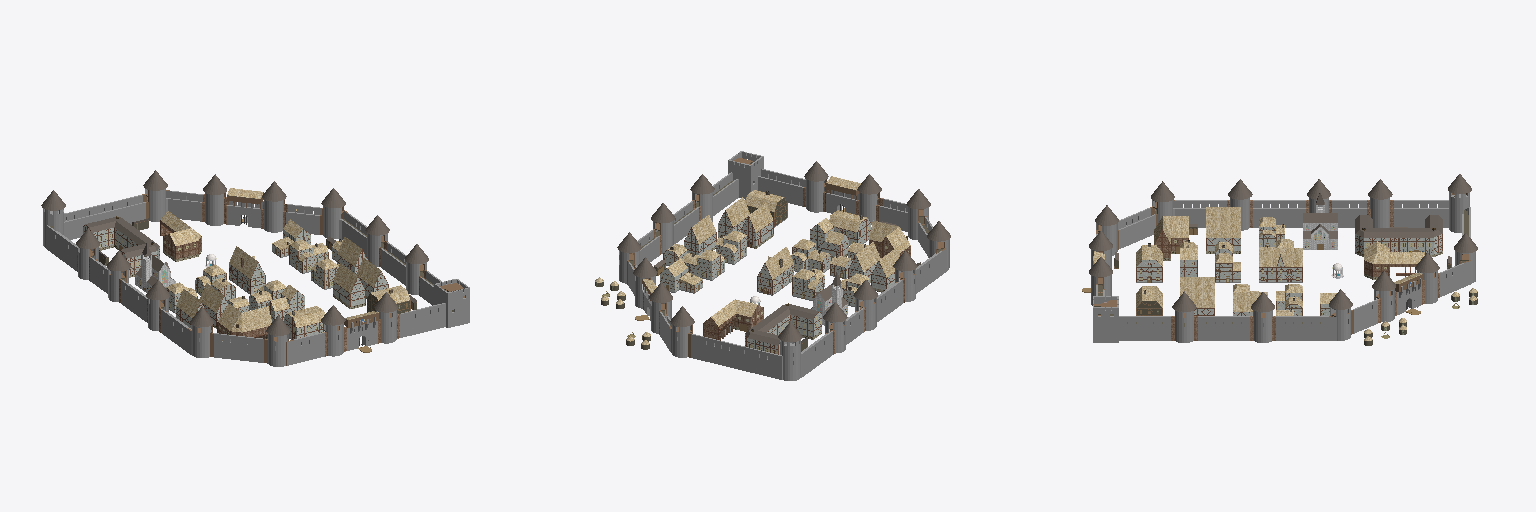
The picture shows the model from 3 angles: view 1: azimuth 30°, elevation 25°; view 2: azimuth 150°, elevation 25°; view 3: azimuth 270°, elevation 25°; orthographic projection.
Visible parts, largest first — view 1: Mesh135 Stables1 Model, Mesh49 Component_1_1 Barracks1 Model, Mesh34 Castle_Watchtower_1_1 Model, Mesh77 Castle_Wall_1_2 Model, Mesh3 Castle_Gate1 AutoSave_Castle_Gate1 Group1 Model, Mesh76 Castle_Tower_2_1 Model, Mesh30 Castle_Wall_1_1 Model, Mesh124 Group28 Group26 Manor1 Model, Mesh78 Castle_Tower_2_2 Model, Mesh35 Castle_Gate2 AutoSave_Castle_Gate2 Model, Mesh71 Component_4_1 Chapel1 Model, Mesh107 Castle_Tower_2_3 Model (+23 smaller); view 2: Mesh135 Stables1 Model, Mesh123 Group27 Group26 Manor1 Model, Mesh118 Castle_Wall_1_8 Model, Mesh30 Castle_Wall_1_1 Model, Mesh34 Castle_Watchtower_1_1 Model, Mesh47 Castle_Corner_Tower_1_1 Model, Mesh49 Component_1_1 Barracks1 Model, Mesh35 Castle_Gate2 AutoSave_Castle_Gate2 Model, Mesh108 Castle_Tower_2_4 Model, Mesh68 Loft1 Model, Mesh125 Store2 Model, Mesh136 Smithy1 Model (+17 smaller); view 3: Mesh71 Component_4_1 Chapel1 Model, Mesh124 Group28 Group26 Manor1 Model, Mesh95 Castle_Wall_1_7 Model, Mesh93 Castle_Wall_1_5 Model, Mesh94 Castle_Wall_1_6 Model, Mesh135 Stables1 Model, Mesh122 Castle_Wall_1_1_1 Model, Mesh34 Castle_Watchtower_1_1 Model, Mesh92 Castle_Wall_1_4 Model, Mesh49 Component_1_1 Barracks1 Model, Mesh123 Group27 Group26 Manor1 Model, Mesh107 Castle_Tower_2_3 Model (+23 smaller).
Part boxes in pixels (x1,y1,x2,y2): Mesh135 Stables1 Model: (160, 211, 201, 261); Mesh49 Component_1_1 Barracks1 Model: (217, 304, 271, 338); Mesh34 Castle_Watchtower_1_1 Model: (434, 279, 469, 327); Mesh77 Castle_Wall_1_2 Model: (214, 333, 263, 362); Mesh3 Castle_Gate1 AutoSave_Castle_Gate1 Group1 Model: (227, 188, 263, 227); Mesh76 Castle_Tower_2_1 Model: (264, 315, 293, 366); Mesh30 Castle_Wall_1_1 Model: (400, 303, 445, 337); Mesh124 Group28 Group26 Manor1 Model: (83, 216, 137, 250); Mesh78 Castle_Tower_2_2 Model: (187, 307, 213, 357); Mesh35 Castle_Gate2 AutoSave_Castle_Gate2 Model: (344, 311, 378, 350); Mesh71 Component_4_1 Chapel1 Model: (135, 243, 175, 292); Mesh107 Castle_Tower_2_3 Model: (320, 188, 347, 238); Mesh135 Stables1 Model: (703, 299, 763, 339); Mesh123 Group27 Group26 Manor1 Model: (766, 303, 821, 339); Mesh118 Castle_Wall_1_8 Model: (691, 334, 736, 368); Mesh30 Castle_Wall_1_1 Model: (758, 169, 805, 206); Mesh34 Castle_Watchtower_1_1 Model: (728, 151, 763, 199); Mesh47 Castle_Corner_Tower_1_1 Model: (775, 340, 805, 380); Mesh49 Component_1_1 Barracks1 Model: (869, 220, 910, 257); Mesh35 Castle_Gate2 AutoSave_Castle_Gate2 Model: (826, 176, 860, 214); Mesh108 Castle_Tower_2_4 Model: (669, 306, 694, 357); Mesh68 Loft1 Model: (810, 218, 848, 257); Mesh125 Store2 Model: (791, 239, 831, 272); Mesh136 Smithy1 Model: (660, 258, 702, 293); Mesh71 Component_4_1 Chapel1 Model: (1303, 193, 1337, 249); Mesh124 Group28 Group26 Manor1 Model: (1399, 215, 1442, 256); Mesh95 Castle_Wall_1_7 Model: (1276, 316, 1328, 340); Mesh93 Castle_Wall_1_5 Model: (1119, 316, 1170, 340); Mesh94 Castle_Wall_1_6 Model: (1198, 316, 1249, 340); Mesh135 Stables1 Model: (1364, 241, 1424, 279); Mesh122 Castle_Wall_1_1_1 Model: (1394, 200, 1447, 227); Mesh34 Castle_Watchtower_1_1 Model: (1093, 296, 1118, 342); Mesh92 Castle_Wall_1_4 Model: (1253, 200, 1305, 227); Mesh49 Component_1_1 Barracks1 Model: (1154, 216, 1188, 260); Mesh123 Group27 Group26 Manor1 Model: (1355, 215, 1398, 256); Mesh107 Castle_Tower_2_3 Model: (1329, 289, 1353, 340).
Size of the model in its own units: 4057 by 843 by 5428.
56 materials, 21 textured.